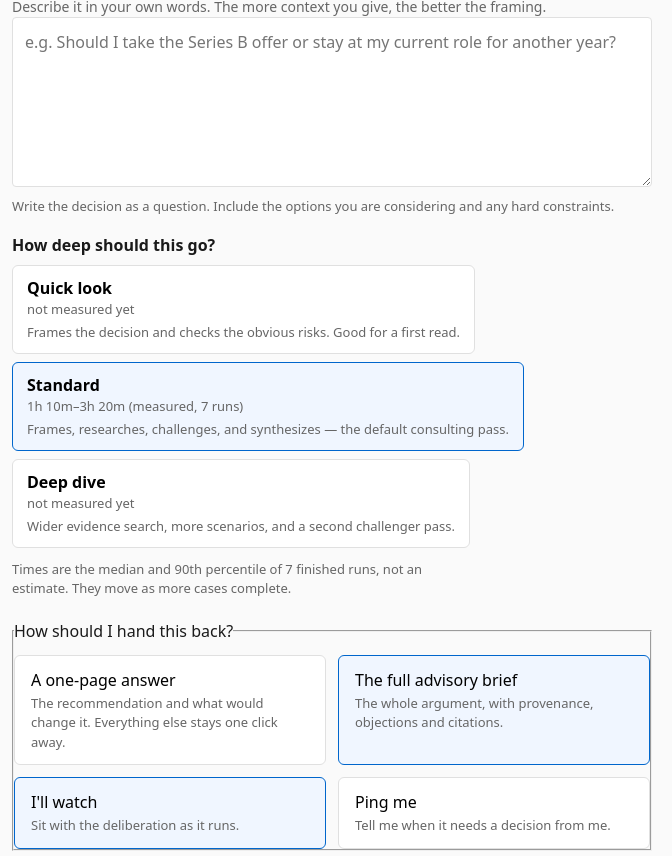
when commissioning fails › names a rejected request as invalid, not as an outage
Type "Should I migrate the billing service to a new provider?" into the text box at (332, 102), box [12,17,652,187]
(page scrolled)
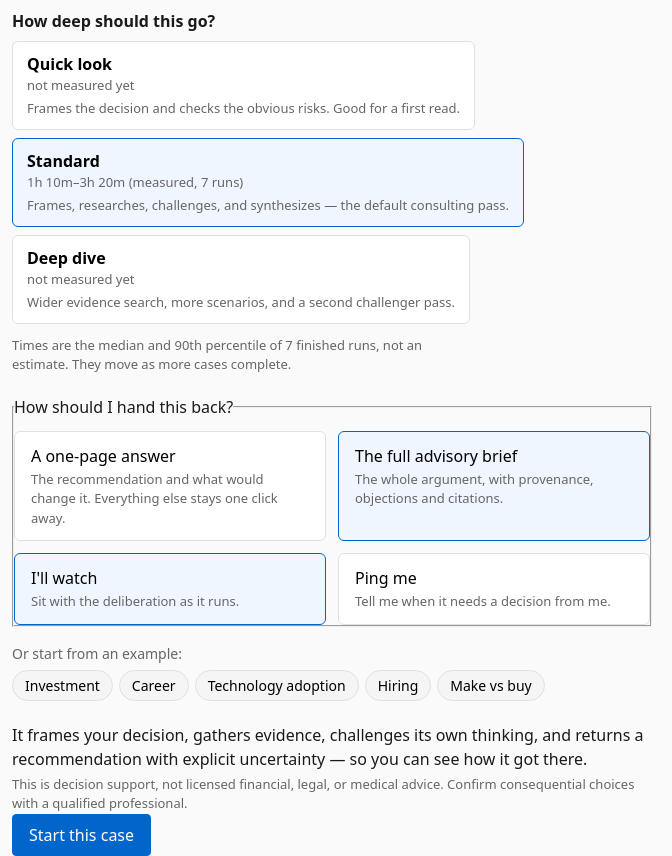
Click the button "Start this case" at (82, 834), box [12,814,151,855]
(page scrolled)
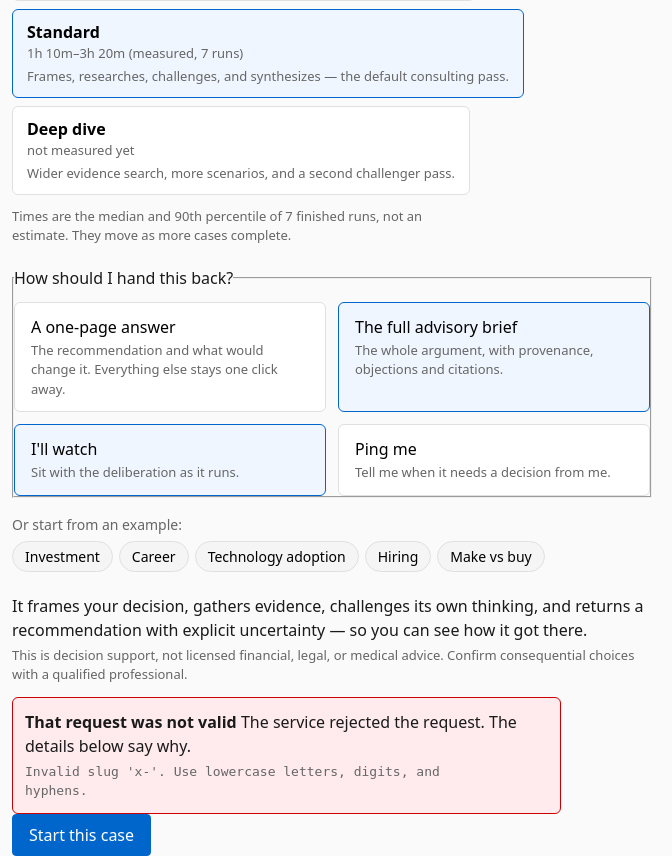
Expected: the message shows "That request was not valid", [25,710,237,732]
Expected: the message shows "Invalid slug", [25,764,440,798]
